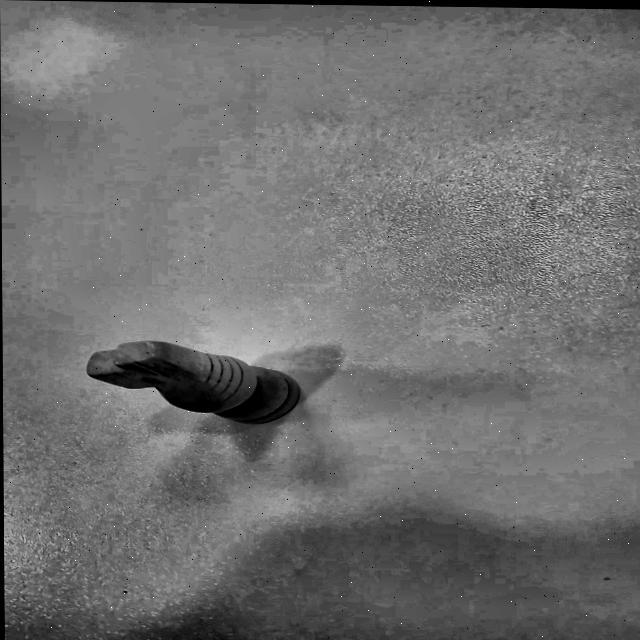white-knight: (17, 309, 359, 460)
